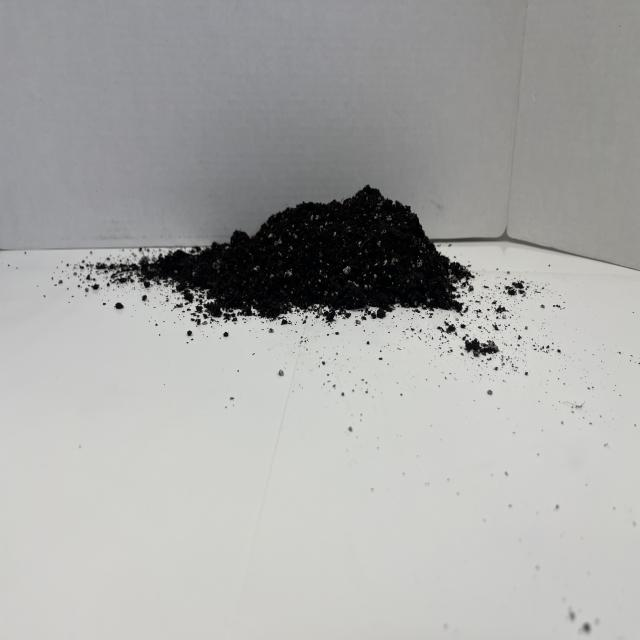soil: (130, 167, 500, 347)
